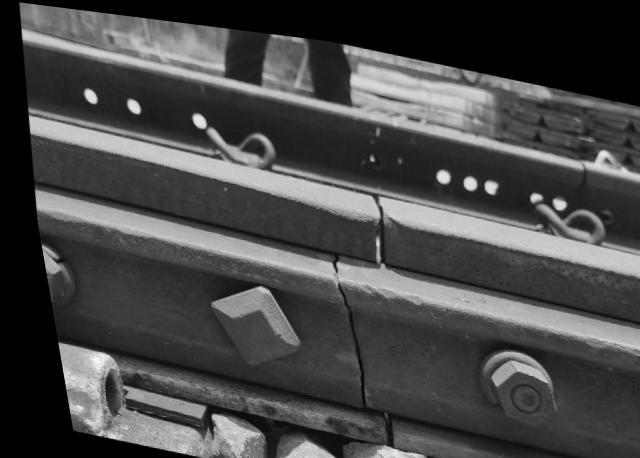person: (294, 141, 450, 291), (319, 364, 429, 458), (554, 137, 607, 189)
